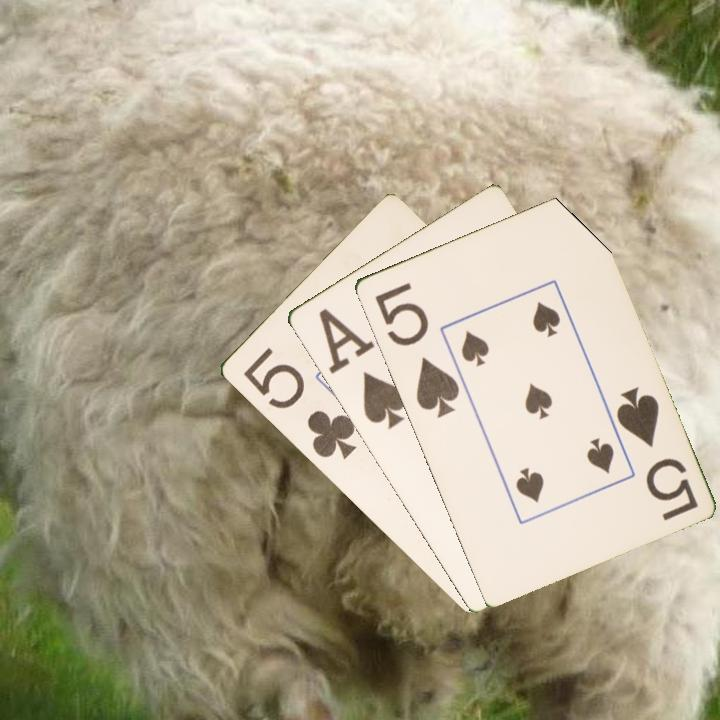5c: (239, 344, 360, 463)
5s: (370, 278, 462, 421), (612, 382, 701, 524)
As: (323, 317, 409, 433)
